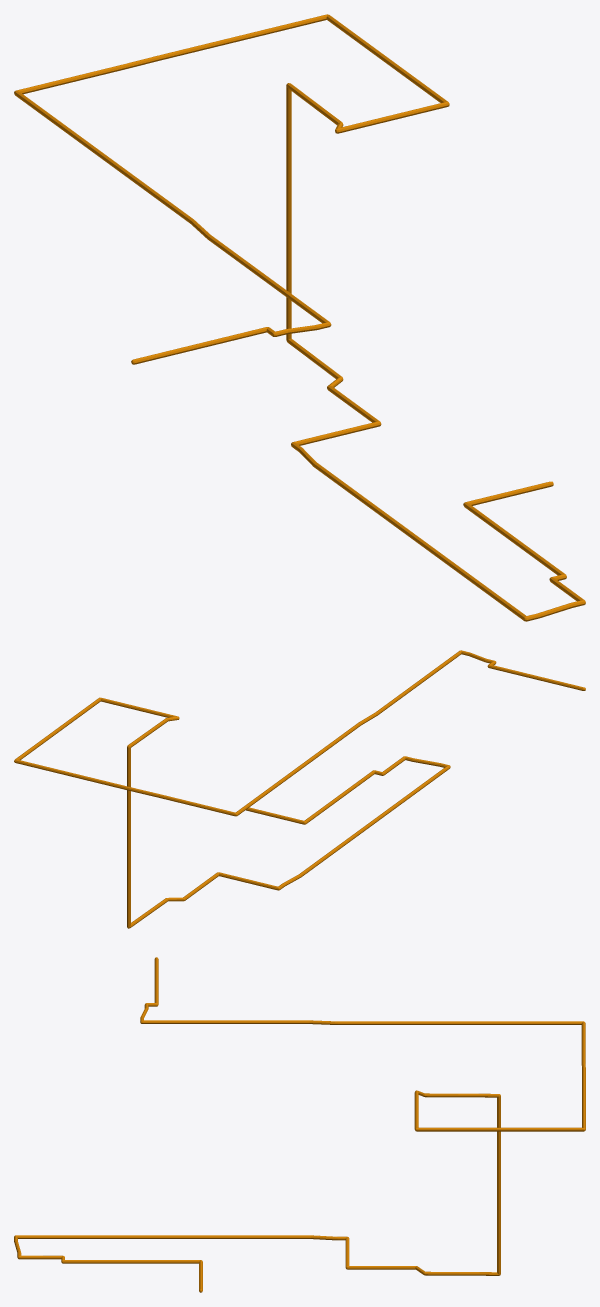
3 views of the same model, one above another, from view 1: azimuth 30°, elevation 25°; view 2: azimuth 150°, elevation 25°; view 3: azimuth 270°, elevation 25° (orthographic). The views are drawn at different scales.
Size of the model in its own units: 2071 by 1020 by 2907.
